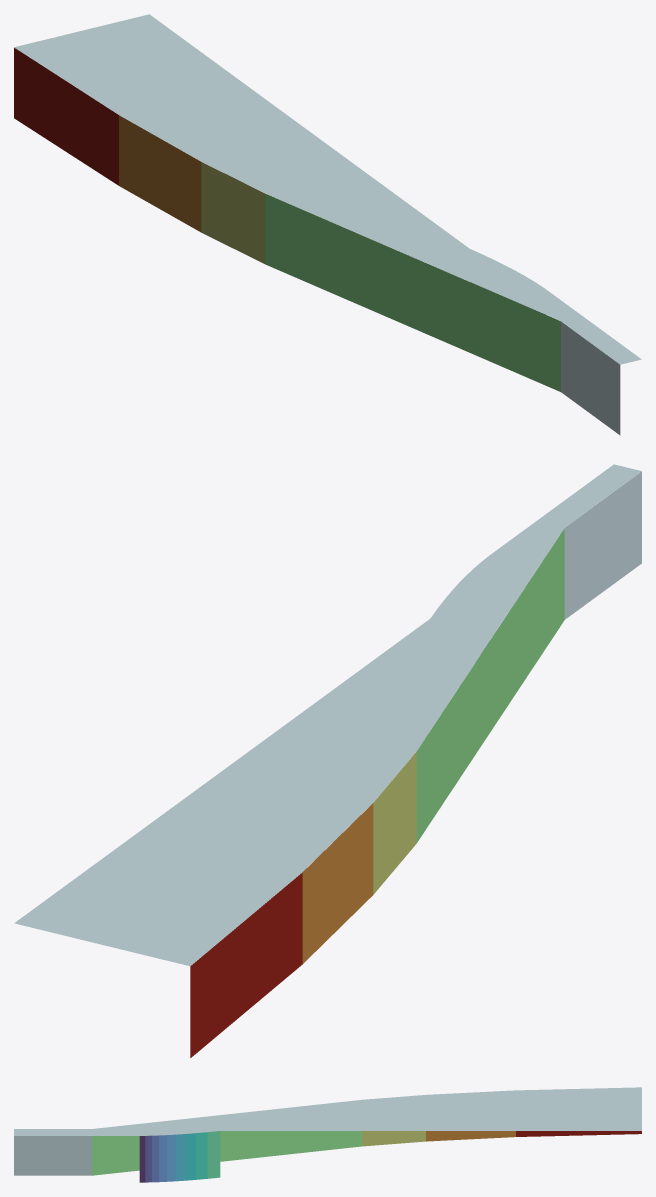
Rendered from scramjet_n4_m10.glb.
3 views of the same model, one above another, from view 1: azimuth 30°, elevation 25°; view 2: azimuth 150°, elevation 25°; view 3: azimuth 270°, elevation 25° (orthographic). The views are drawn at different scales.
Visible parts, largest first — view 1: mesh0; view 2: mesh0; view 3: mesh0.
Part boxes in pixels (x1,y1,x2,y2): mesh0: (14,14,641,435); mesh0: (14,464,641,1057); mesh0: (14,1087,641,1182).
Size of the model in its own units: 1.12 by 0.5006 by 6.1.
